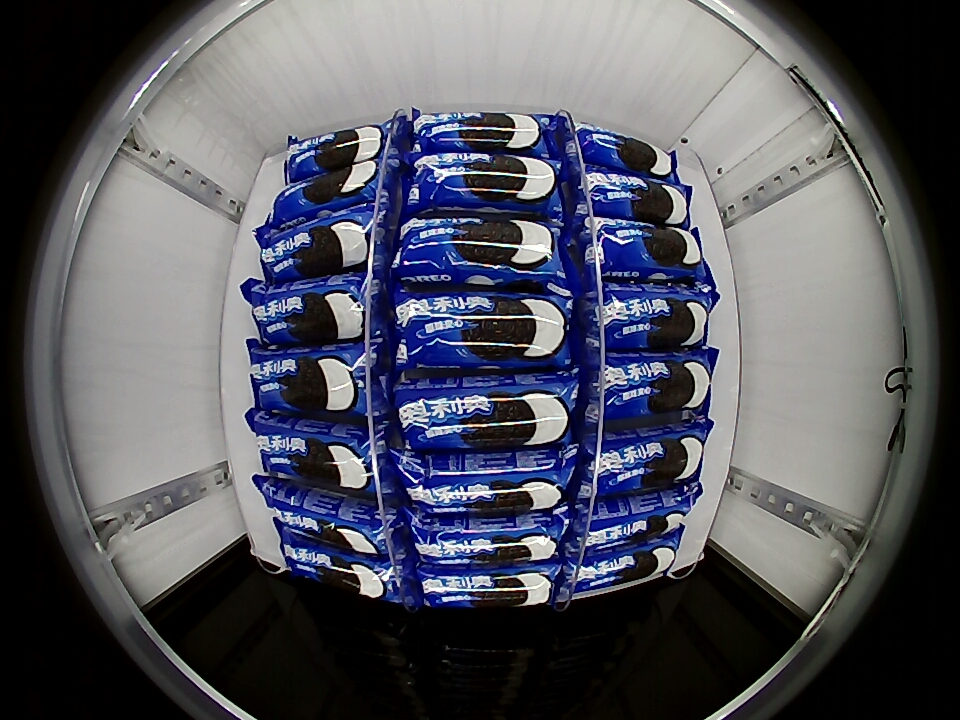aoliao: (390, 287, 571, 370), (391, 368, 578, 447), (391, 215, 564, 291), (393, 439, 574, 506), (402, 151, 560, 221), (257, 476, 395, 553), (247, 411, 386, 486), (407, 500, 566, 563), (588, 348, 716, 423), (277, 529, 405, 603), (242, 271, 368, 344), (247, 342, 370, 414), (580, 430, 714, 495), (252, 225, 385, 288), (590, 280, 709, 350), (415, 555, 561, 610), (581, 483, 698, 550), (588, 217, 707, 282), (564, 534, 676, 600), (573, 161, 687, 225), (568, 122, 688, 182), (409, 109, 547, 160), (252, 172, 382, 223), (286, 124, 388, 184)
